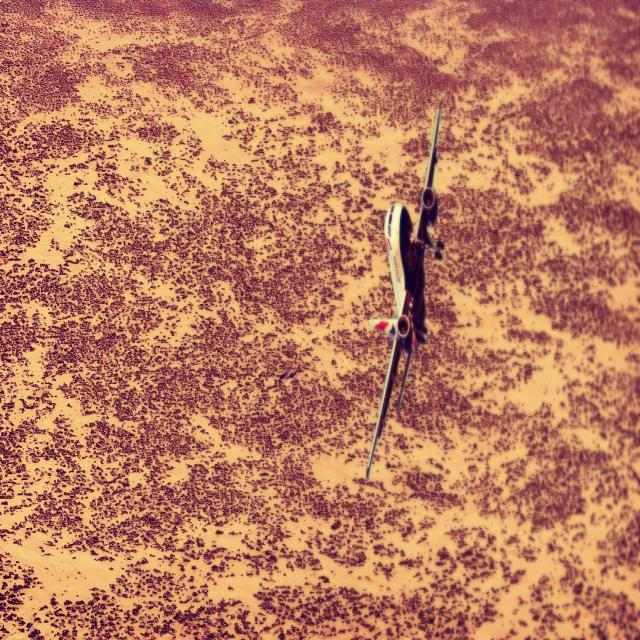airplane: (365, 106, 444, 480)
